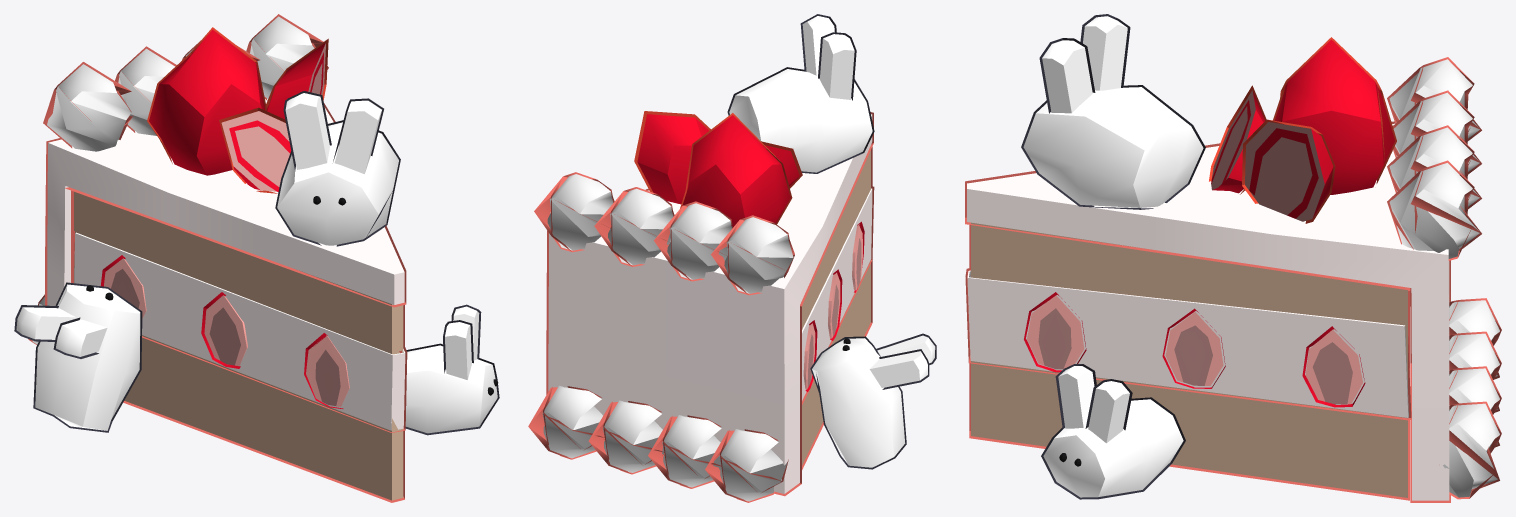
The model's file is cake_time.glb.
3 views of the same model, side by side, from view 1: azimuth 30°, elevation 25°; view 2: azimuth 150°, elevation 25°; view 3: azimuth 270°, elevation 25° (orthographic). The views are drawn at different scales.
Parts seen in each view (by area): view 1: whole_berry2; view 2: whole_berry2; view 3: whole_berry2.
Boxes of the visible parts, <box> form: whole_berry2: <box>14,14,499,502</box>; whole_berry2: <box>528,14,936,502</box>; whole_berry2: <box>965,14,1501,502</box>.
Bounding box in the file's own units: 2.65 × 2.48 × 2.94.
